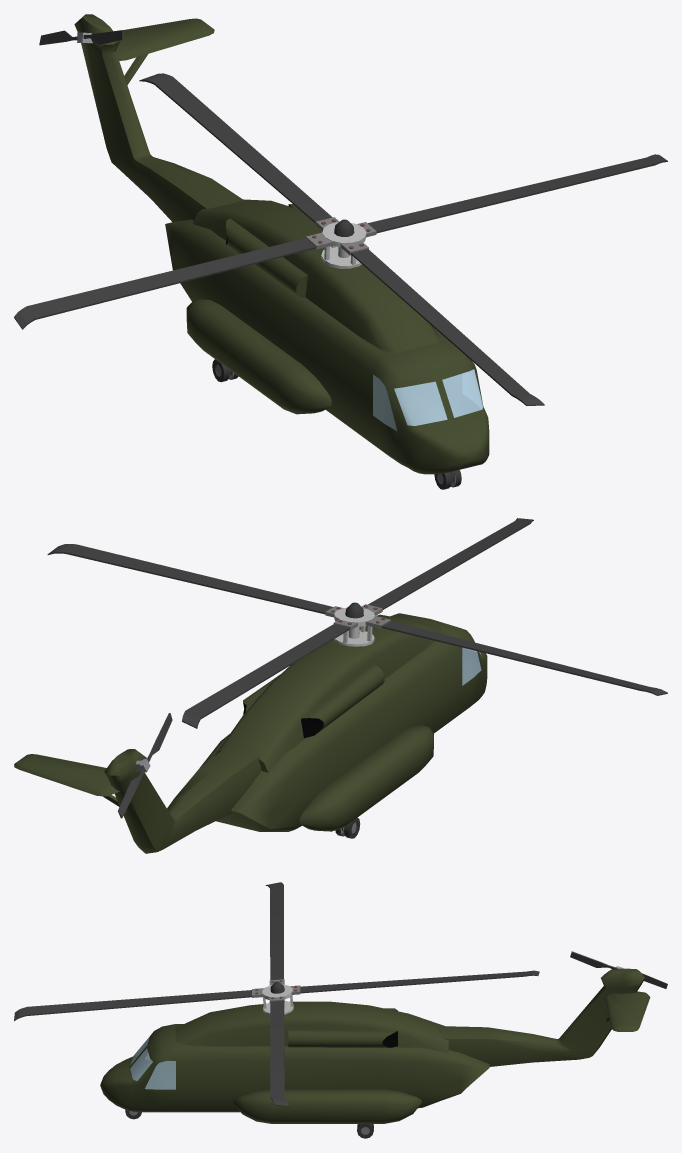
3 views of the same model, one above another, from view 1: azimuth 30°, elevation 25°; view 2: azimuth 150°, elevation 25°; view 3: azimuth 270°, elevation 25° (orthographic). The views are drawn at different scales.
Parts seen in each view (by area): view 1: Group_008, Group_001, Group_012, Group_003, Group_005, Group_006, Group_004, Group_010, Group_002, Group_007, Group_011; view 2: Group_001, Group_008, Group_012, Group_004, Group_005, Group_003, Group_002, Group_006, Group_007, Group_011; view 3: Group_008, Group_001, Group_013, Group_006, Group_002, Group_004, Group_005, Group_003, Group_009, Group_010, Group_007.
Boxes of the visible parts, x1=… form: Group_008: x1=165, y1=219, x2=489, y2=474; Group_001: x1=74, y1=14, x2=454, y2=420; Group_012: x1=186, y1=299, x2=331, y2=414; Group_003: x1=14, y1=232, x2=333, y2=329; Group_005: x1=139, y1=73, x2=339, y2=230; Group_006: x1=340, y1=241, x2=544, y2=405; Group_004: x1=357, y1=154, x2=667, y2=237; Group_010: x1=394, y1=369, x2=483, y2=425; Group_002: x1=225, y1=204, x2=307, y2=297; Group_007: x1=39, y1=30, x2=123, y2=45; Group_011: x1=373, y1=374, x2=396, y2=430; Group_001: x1=14, y1=602, x2=442, y2=853; Group_008: x1=200, y1=613, x2=487, y2=831; Group_012: x1=299, y1=725, x2=433, y2=831; Group_004: x1=47, y1=544, x2=342, y2=617; Group_005: x1=182, y1=619, x2=357, y2=728; Group_003: x1=365, y1=616, x2=667, y2=695; Group_002: x1=243, y1=665, x2=384, y2=738; Group_006: x1=361, y1=518, x2=533, y2=615; Group_007: x1=118, y1=713, x2=172, y2=818; Group_011: x1=462, y1=647, x2=481, y2=685; Group_008: x1=100, y1=1024, x2=489, y2=1112; Group_001: x1=129, y1=968, x2=650, y2=1068; Group_013: x1=233, y1=1089, x2=421, y2=1123; Group_006: x1=14, y1=988, x2=264, y2=1021; Group_002: x1=288, y1=1008, x2=397, y2=1047; Group_004: x1=269, y1=996, x2=289, y2=1106; Group_005: x1=290, y1=970, x2=539, y2=994; Group_003: x1=265, y1=882, x2=284, y2=985; Group_009: x1=145, y1=1061, x2=175, y2=1089; Group_010: x1=130, y1=1036, x2=152, y2=1080; Group_007: x1=570, y1=951, x2=667, y2=988.
Size of the model in its own units: 25150 by 8490 by 31192.
